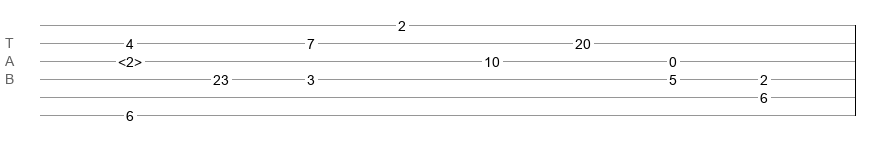0: (669, 54, 677, 64)
10: (484, 54, 500, 64)
2: (398, 18, 406, 28), (760, 72, 768, 82)
20: (575, 36, 591, 46)
23: (213, 72, 229, 82)
3: (307, 72, 315, 82)
4: (126, 36, 134, 46)
5: (669, 72, 677, 82)
6: (126, 108, 134, 118), (760, 90, 768, 100)
7: (307, 36, 315, 46)
harmonic: (118, 54, 142, 64)
